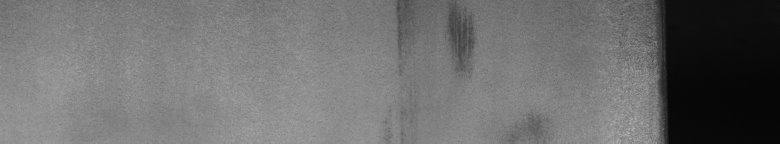ka: (390, 4, 480, 75)
